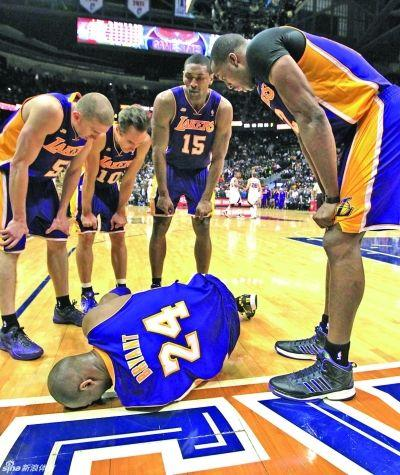10+: (1, 19, 399, 418)
down: (41, 266, 263, 414)
